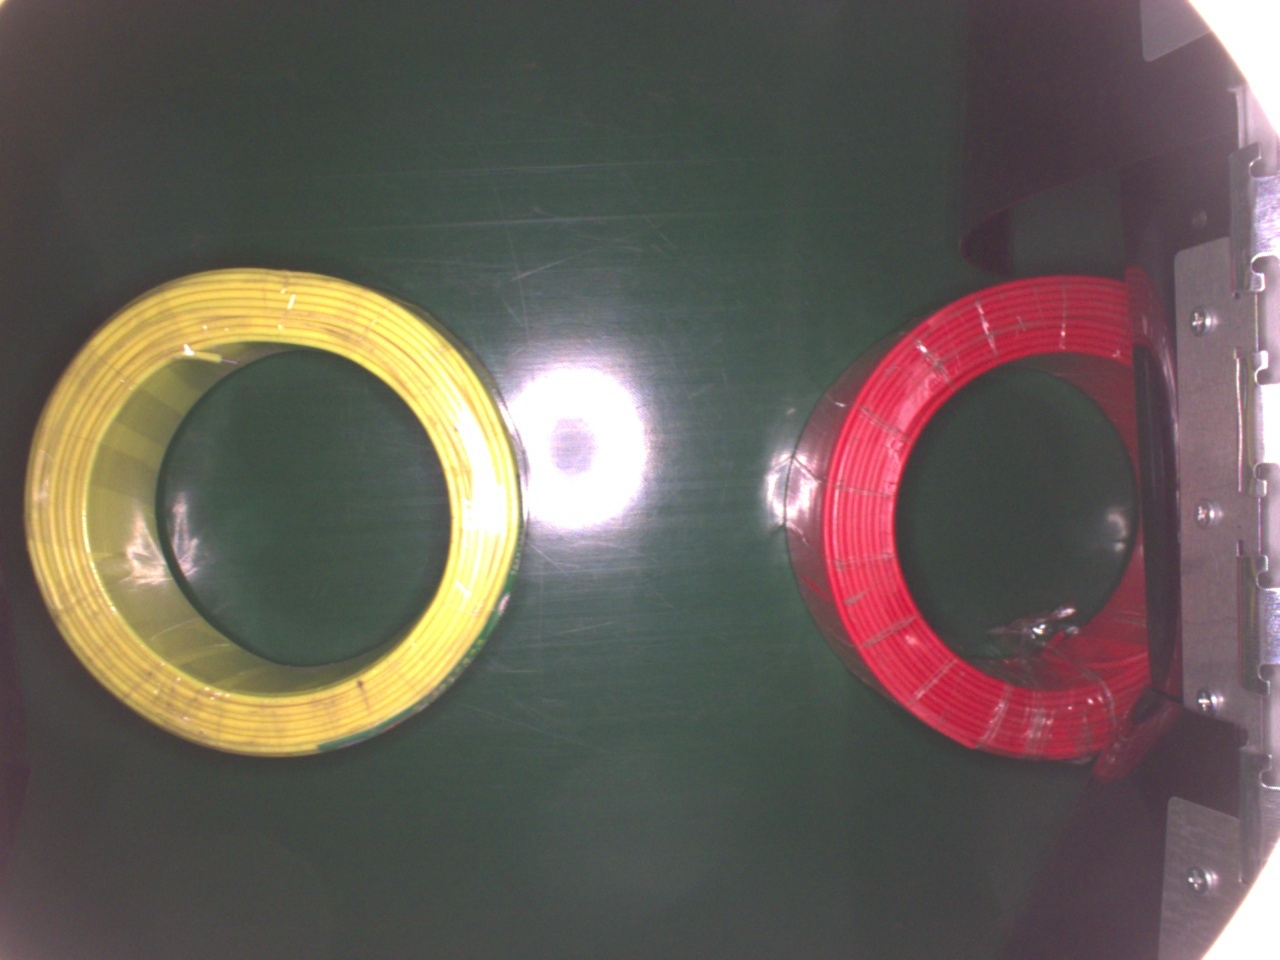red: (782, 271, 1152, 757)
yellow: (20, 263, 544, 755)
